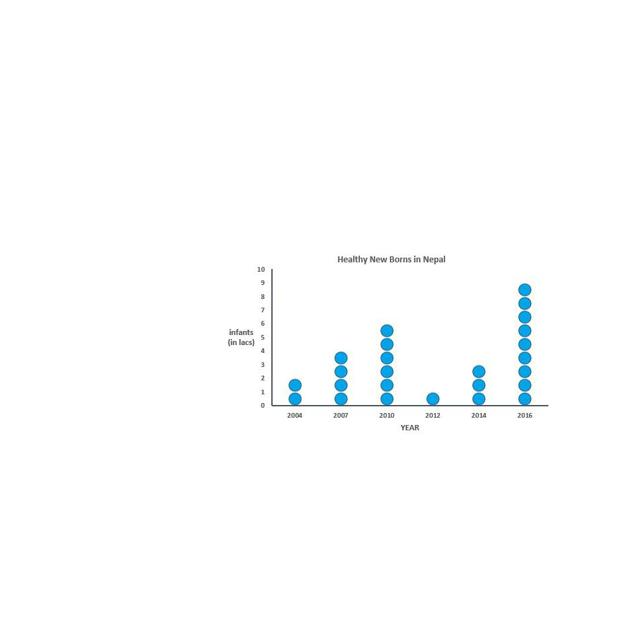Graph: (216, 243, 557, 443)
